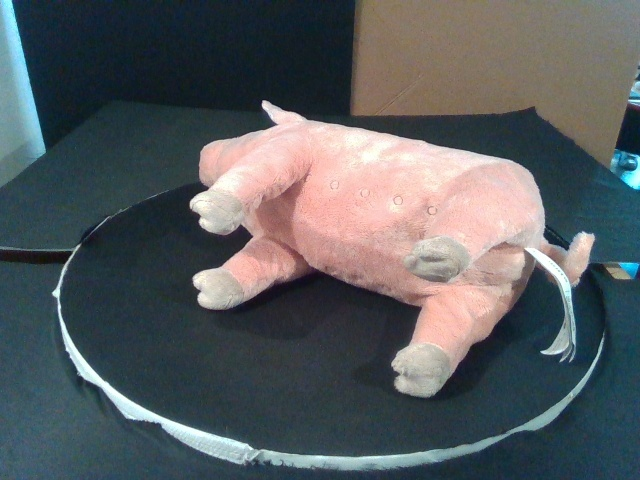teddy_bear: (190, 100, 596, 399)
